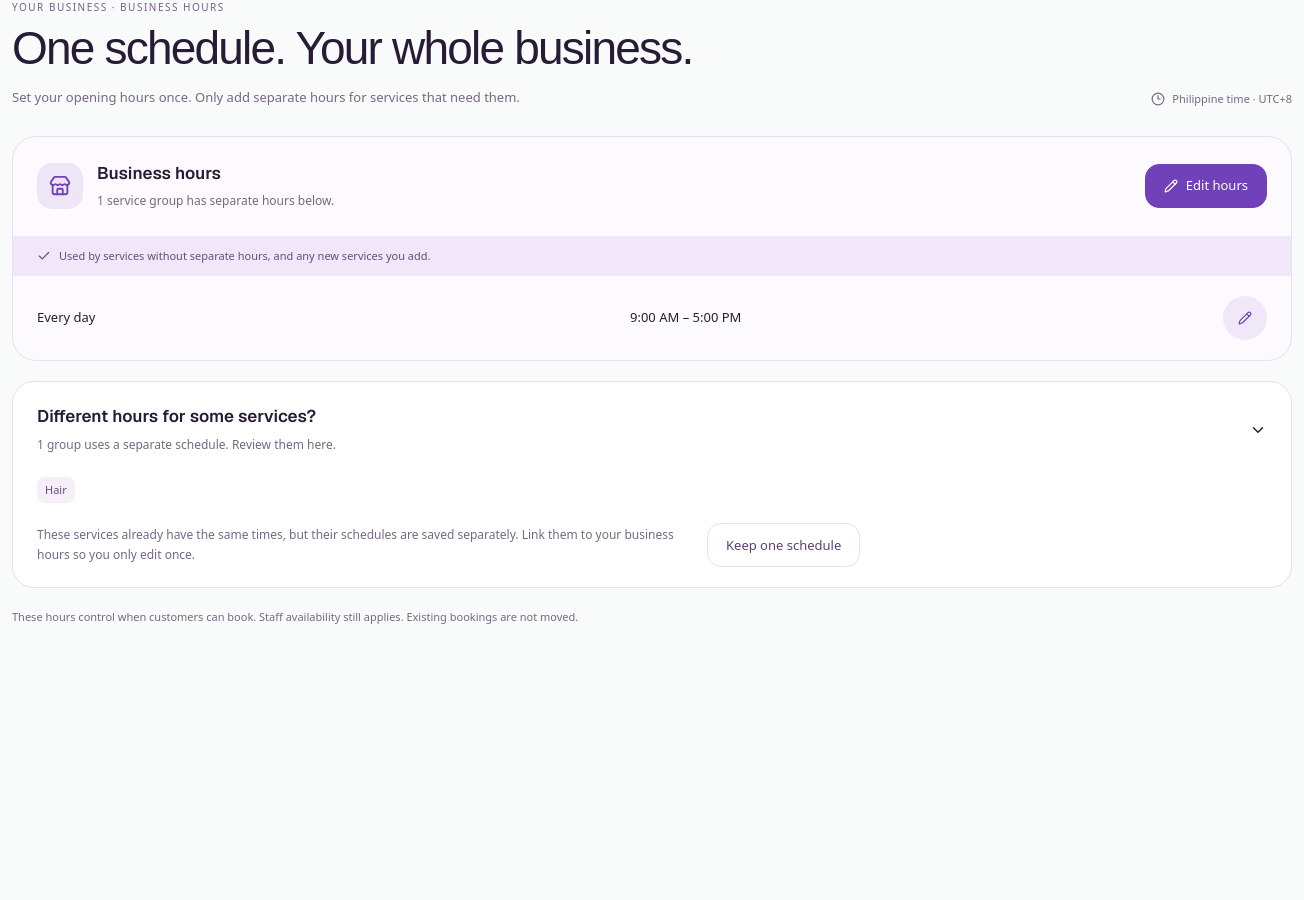
redesigned business hours › requires explicit confirmation to remove separate hours and restores them on discard
expect the text "1 service group has separate hours below." is shown: met, box [97,191,334,212]
Click the button "Different hours for some services" at (177, 416), box [13,382,1291,477]
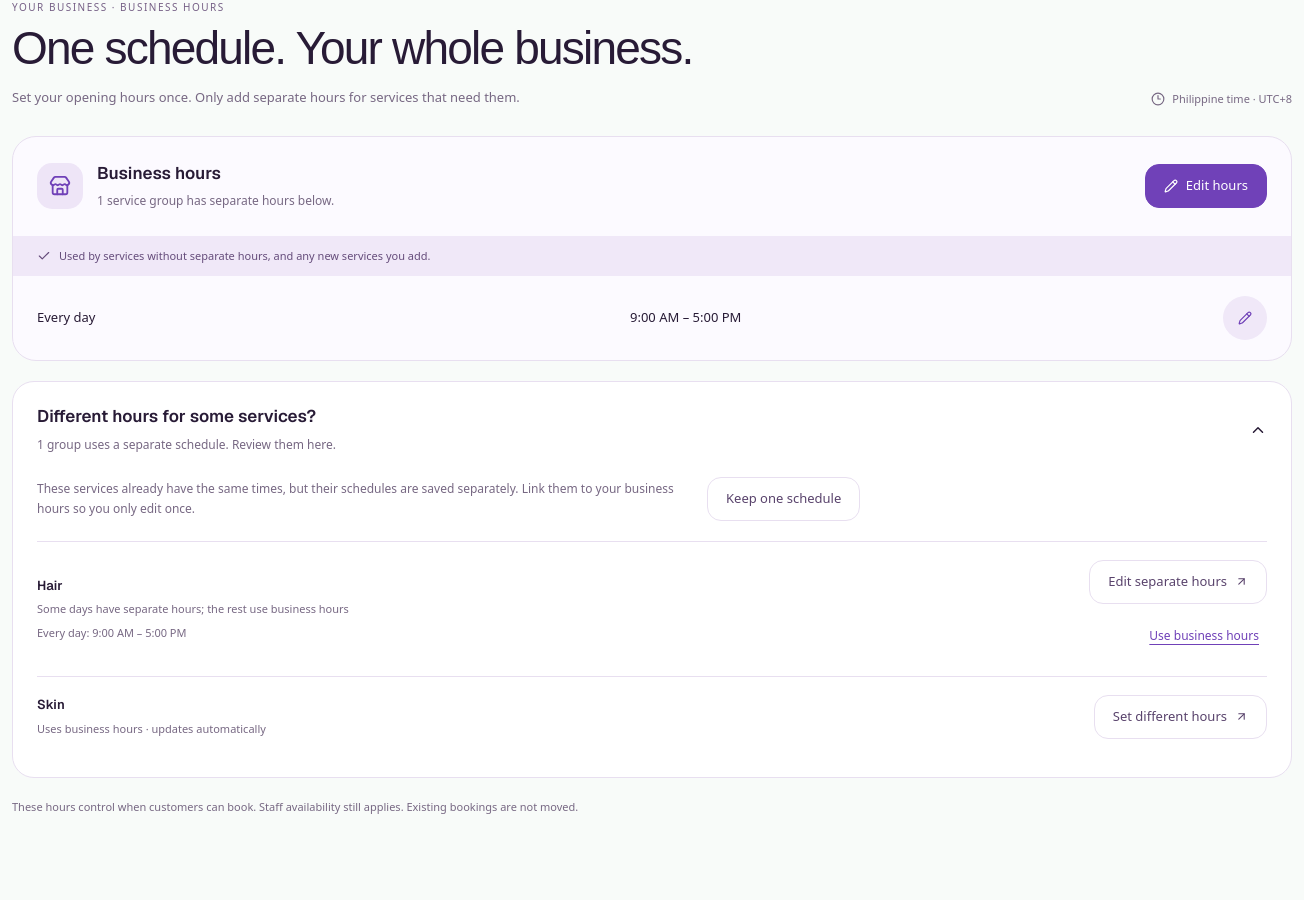
Click the button "Use business hours" at (1204, 636), box [1141,614,1267,658]
(page scrolled)
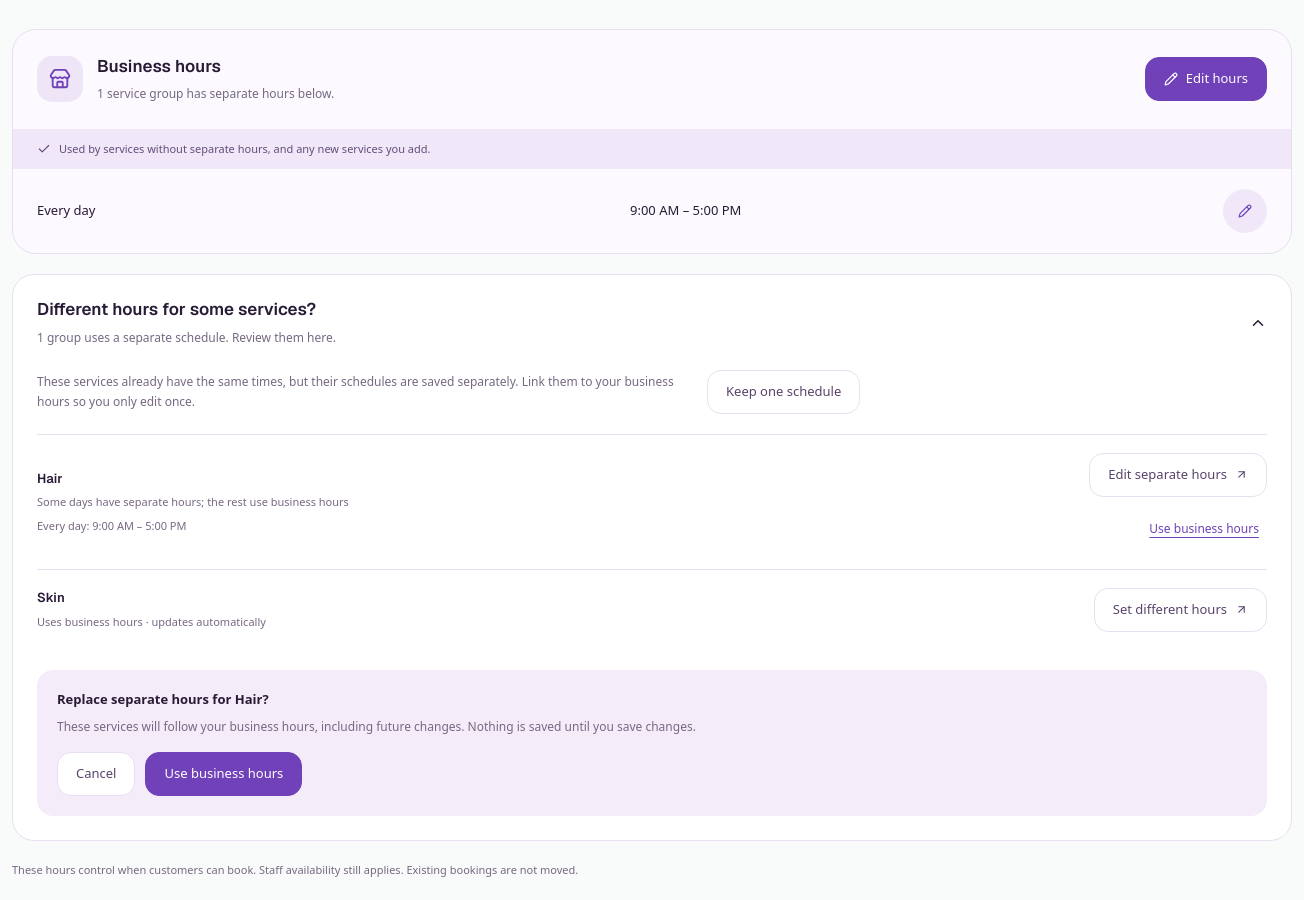
Click the button "Cancel" at (96, 774), box [57,752,136,796]
(page scrolled)
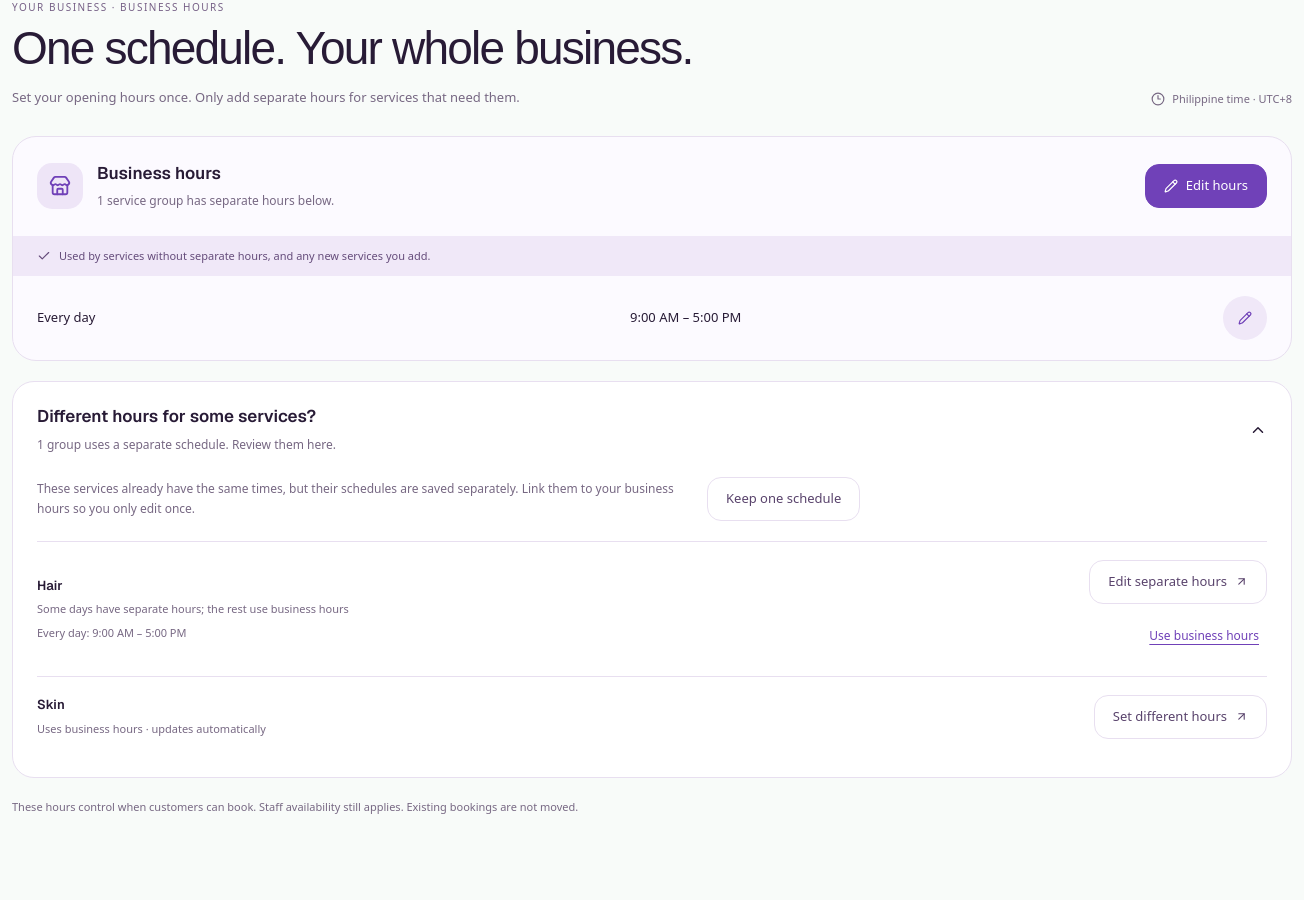
expect the text "Changes ready to save" is not shown: met
Click the button "Use business hours" at (1204, 636), box [1141,614,1267,658]
(page scrolled)
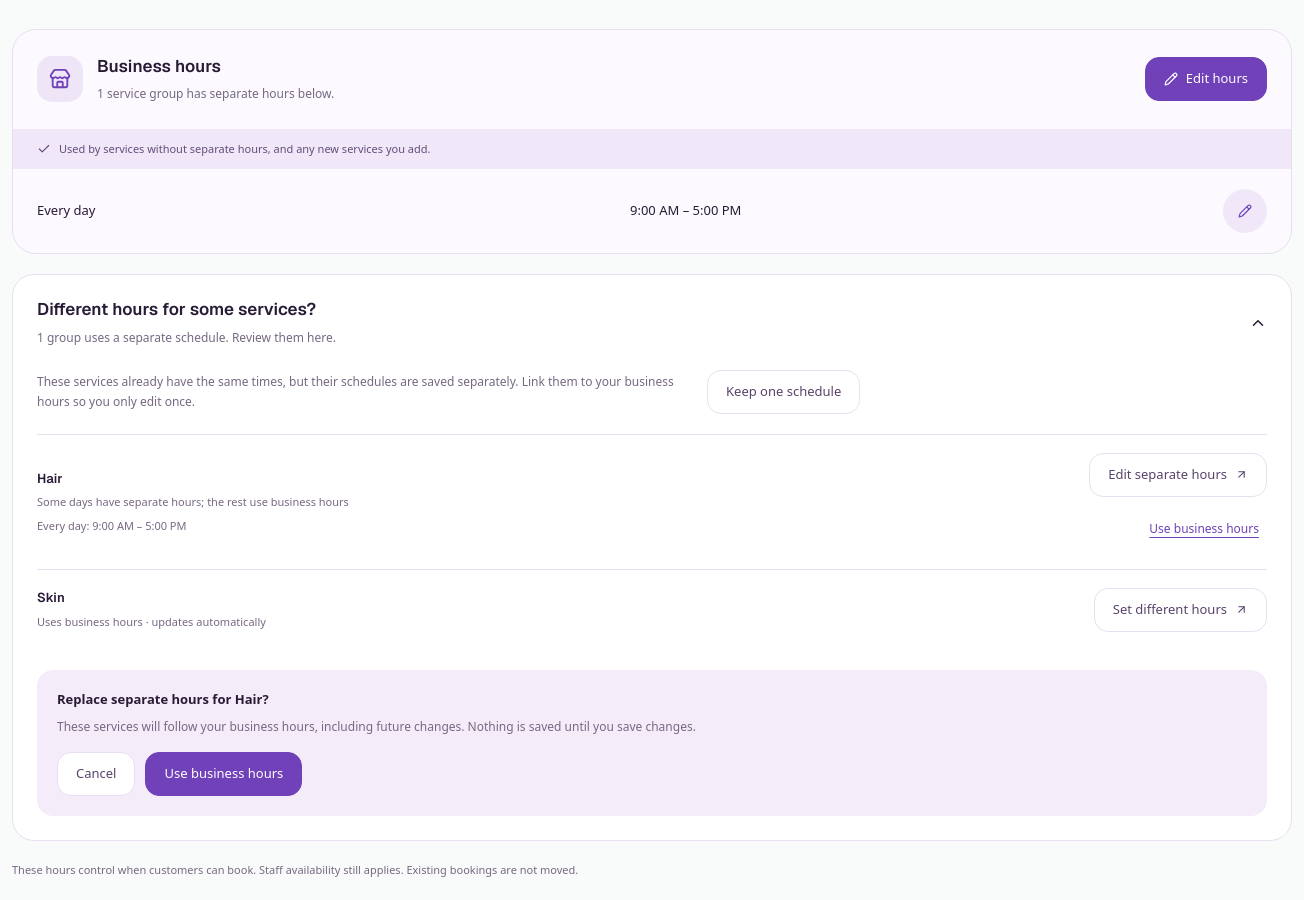
Click the button "Use business hours" below "Replace separate hours for" at (224, 774), box [146,752,302,796]
(page scrolled)
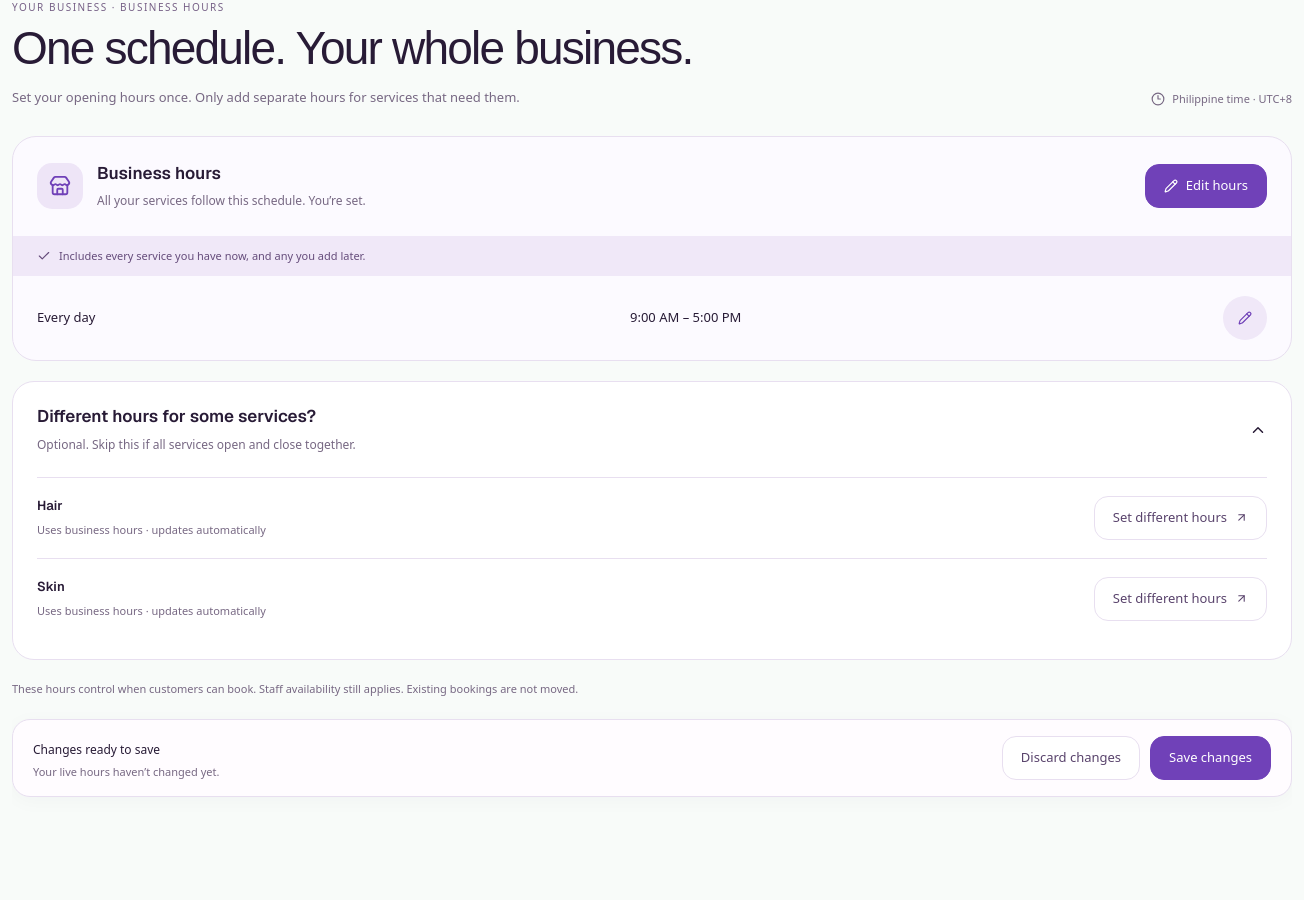
expect the text "All your services follow this schedule. You’re set." is shown: met, box [97,191,366,212]
Click the button "Discard changes" at (1071, 758), box [1002,736,1140,780]
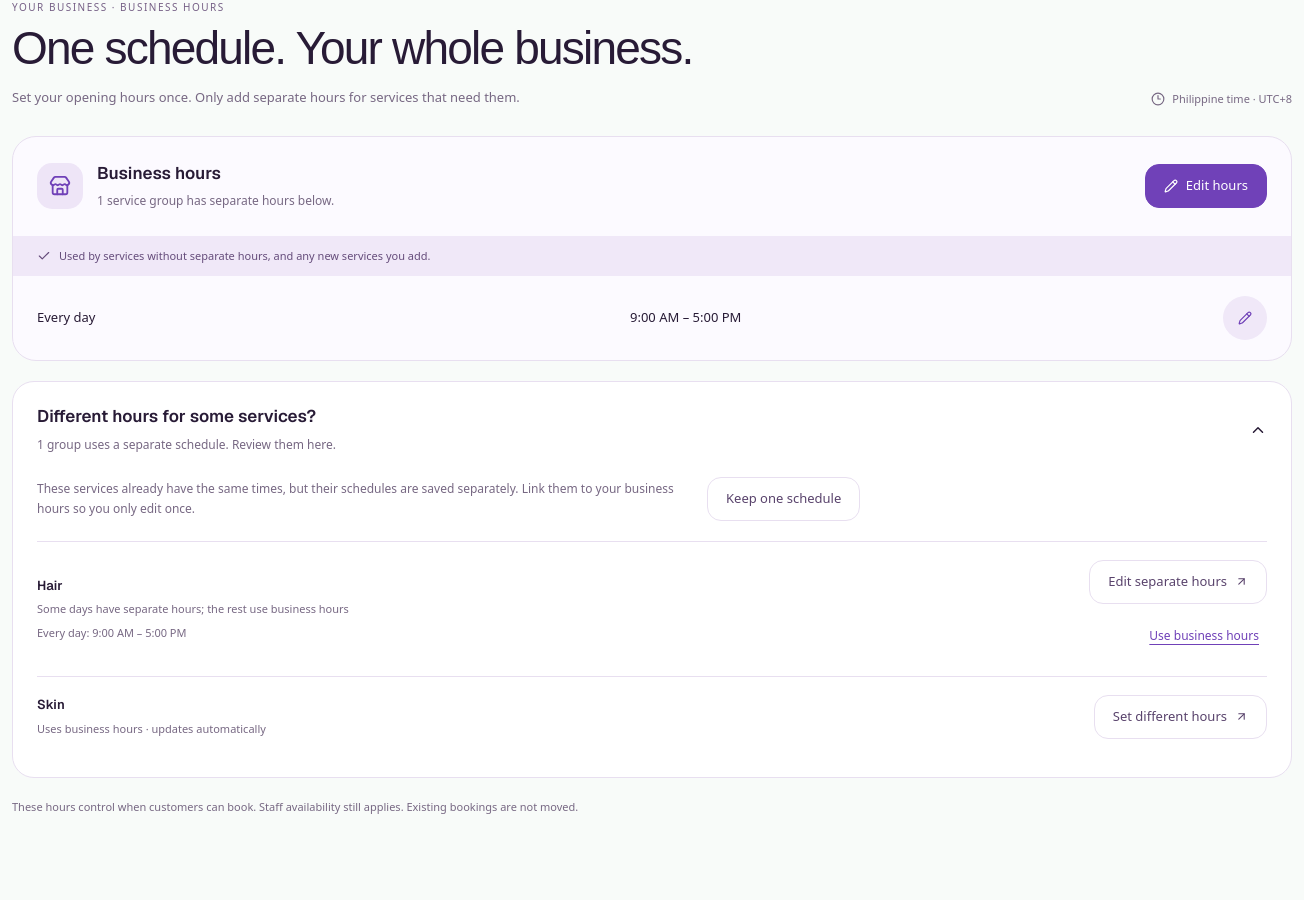
expect the text "1 service group has separate hours below." is shown: met, box [97,191,334,212]
